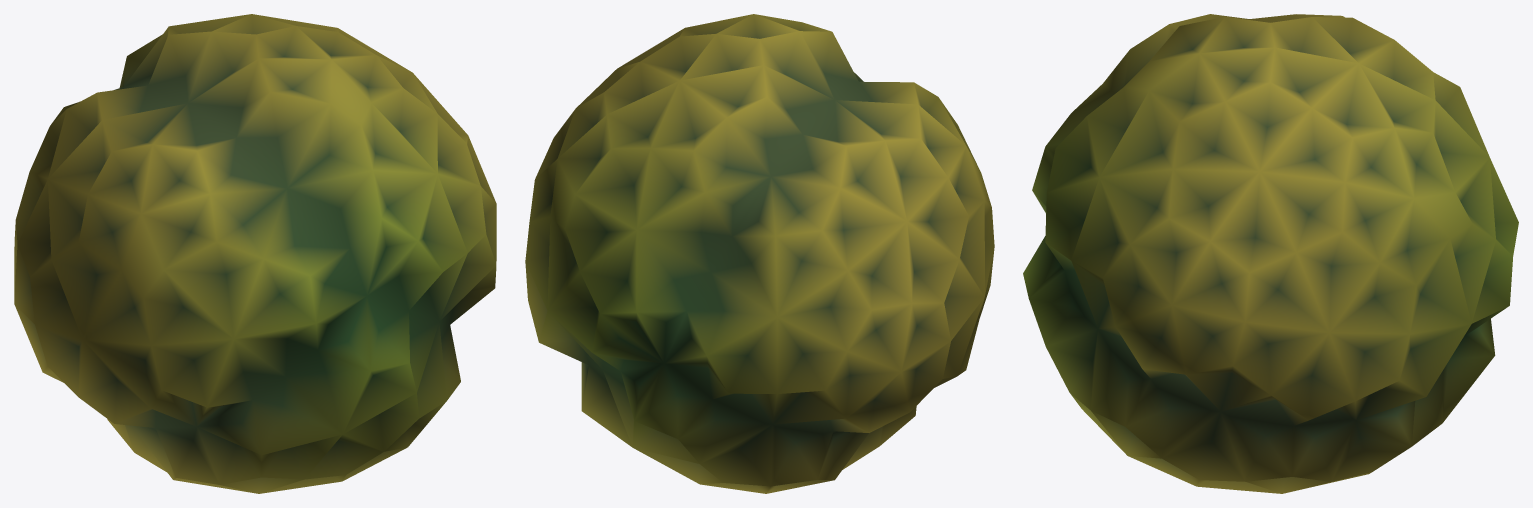
File: microscopic-pollen-spores-netted-pollen_v1.fbx
3 renders of one model, left to right at view 1: azimuth 30°, elevation 25°; view 2: azimuth 150°, elevation 25°; view 3: azimuth 270°, elevation 25°, orthographic. The views are drawn at different scales.
Parts seen in each view (by area): view 1: Netted Pollen; view 2: Netted Pollen; view 3: Netted Pollen.
Boxes of the visible parts, left/top/right/bottom form: Netted Pollen: left=14, top=14, right=496, bottom=493; Netted Pollen: left=525, top=14, right=994, bottom=493; Netted Pollen: left=1023, top=14, right=1518, bottom=493.
Bounding box in the file's own units: 0.3965 × 0.4 × 0.3989.
